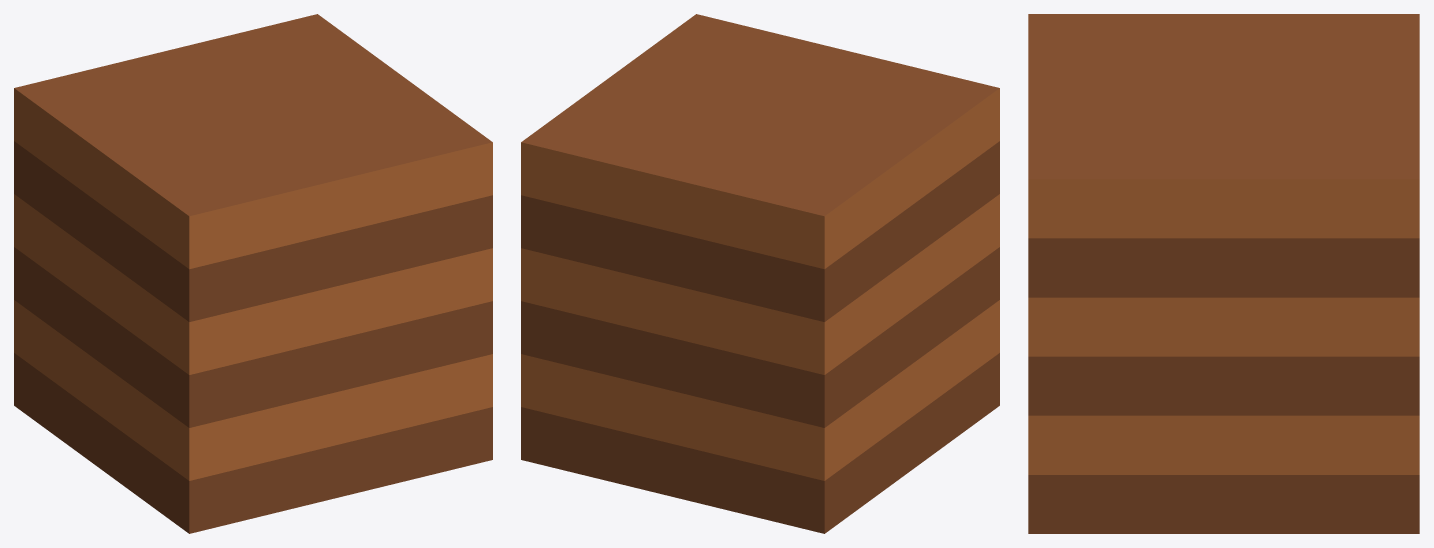
3 views of the same model, side by side, from view 1: azimuth 30°, elevation 25°; view 2: azimuth 150°, elevation 25°; view 3: azimuth 270°, elevation 25° (orthographic). The views are drawn at different scales.
Visible parts, largest first — view 1: Cube; view 2: Cube; view 3: Cube.
Part boxes in pixels (x1,y1,x2,y2): Cube: [14, 14, 492, 533]; Cube: [521, 14, 999, 533]; Cube: [1028, 14, 1419, 533].
Size of the model in its own units: 200 by 200 by 200.
